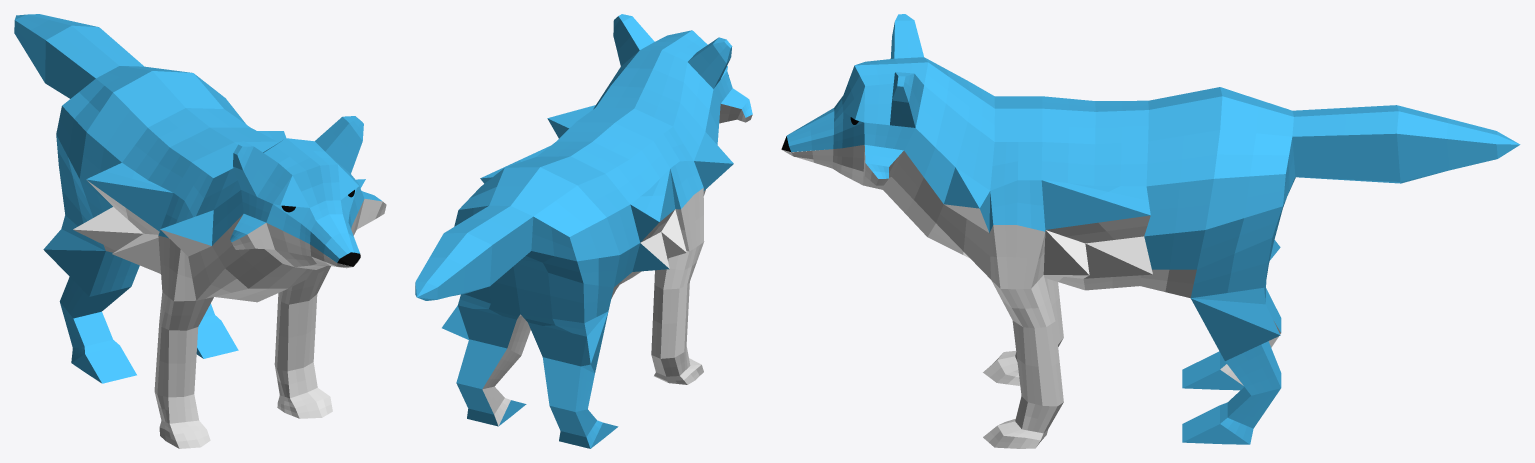
Rendered from wolf_2.fbx.
The picture shows the model from 3 angles, left to right: view 1: azimuth 30°, elevation 25°; view 2: azimuth 150°, elevation 25°; view 3: azimuth 270°, elevation 25°; orthographic projection. The views are drawn at different scales.
Visible parts, largest first — view 1: Cube; view 2: Cube; view 3: Cube.
Part boxes in pixels (x1,y1,x2,y2): Cube: (14, 14, 386, 448); Cube: (415, 14, 752, 448); Cube: (781, 14, 1520, 448).
Bounding box in the file's own units: 93.23 × 133 × 245.
